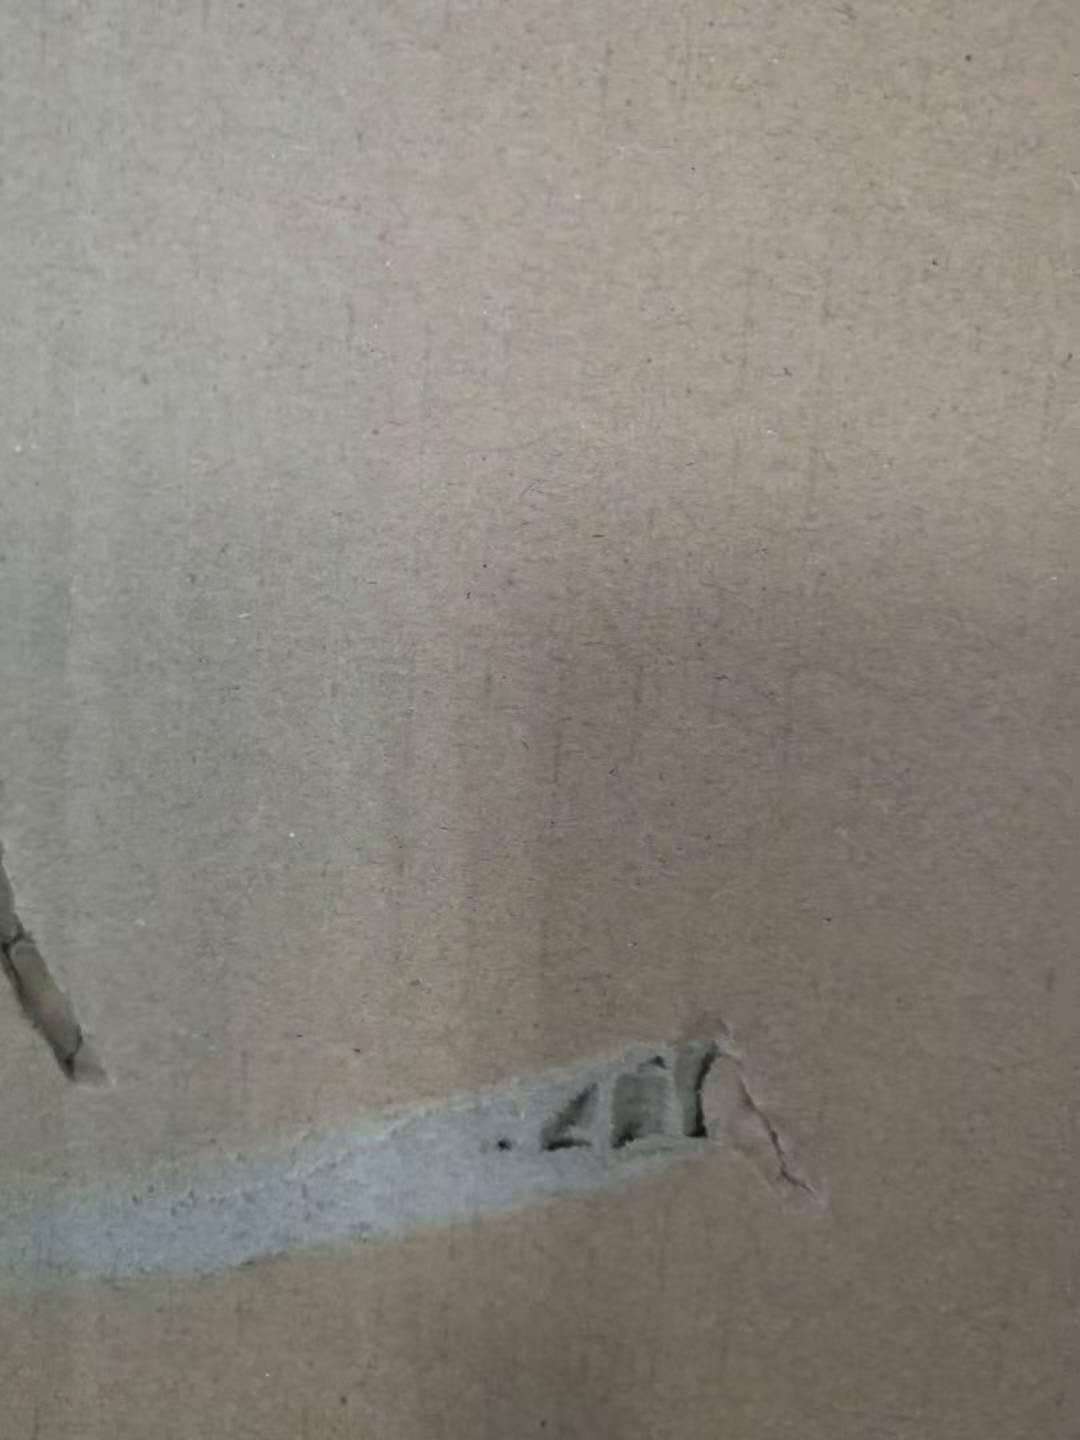defect: (2, 986, 857, 1313), (1, 828, 129, 1130)
